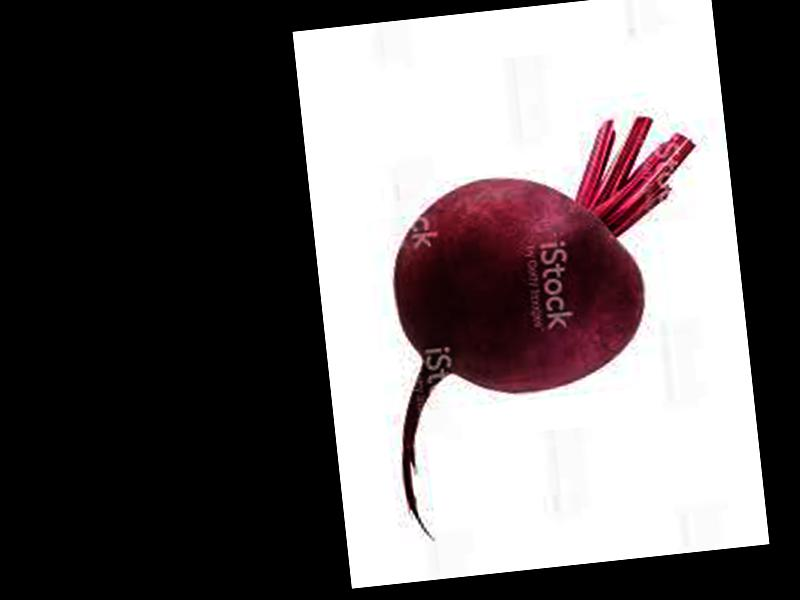Beet: (371, 110, 732, 541)
